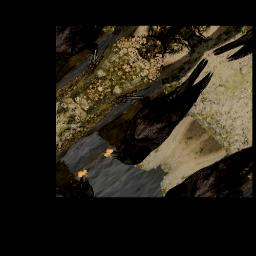Crow: (77, 40, 236, 176)
